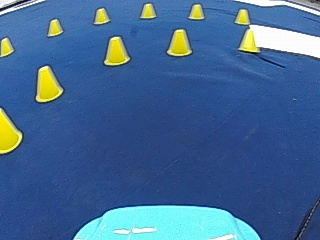cone: (34, 64, 63, 102), (0, 108, 22, 152), (103, 35, 130, 65), (166, 28, 192, 56), (239, 28, 258, 52), (139, 2, 156, 19), (187, 3, 204, 20), (47, 18, 63, 36), (93, 7, 109, 24), (0, 36, 14, 55), (234, 8, 250, 24)
